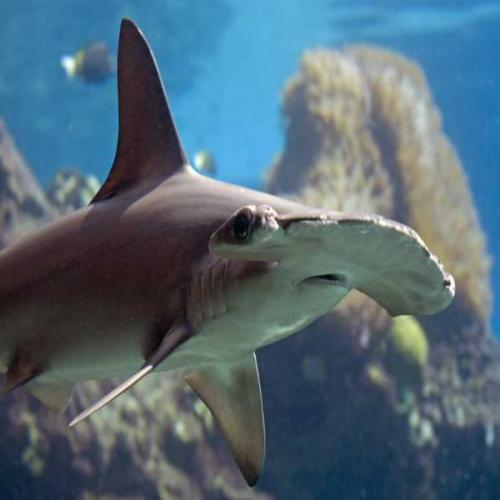shark-endangered: (0, 18, 455, 491)
